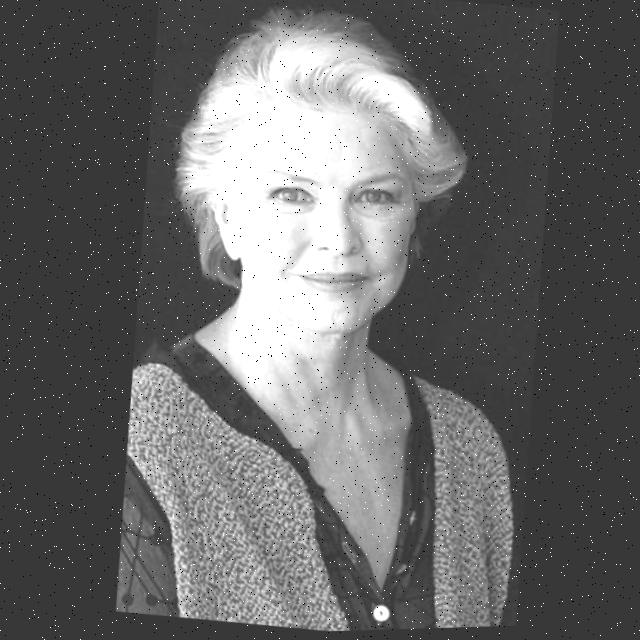face: (205, 47, 434, 340)
